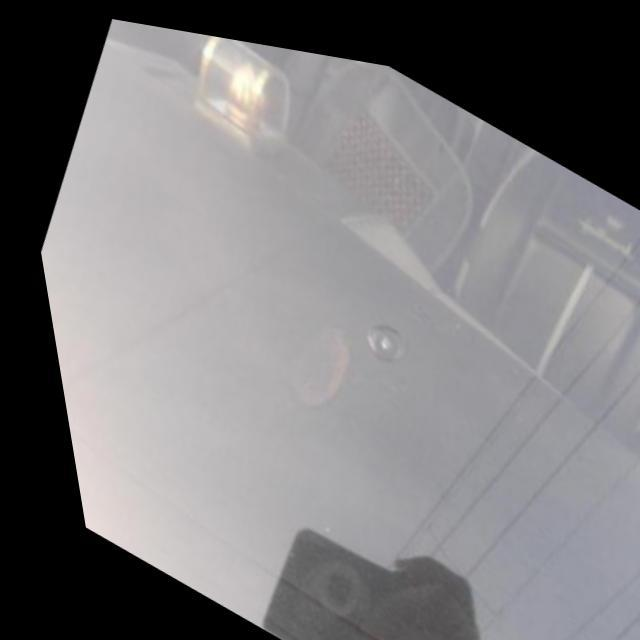glass shatter: (351, 299, 408, 369)
